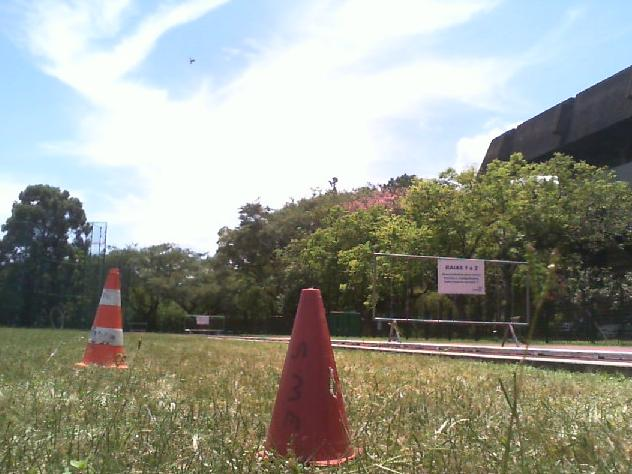0 cone: (253, 288, 365, 465), (76, 267, 129, 370)
